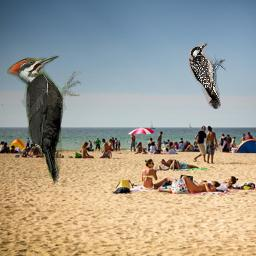Woodpecker: (7, 55, 81, 186), (186, 41, 230, 109)
